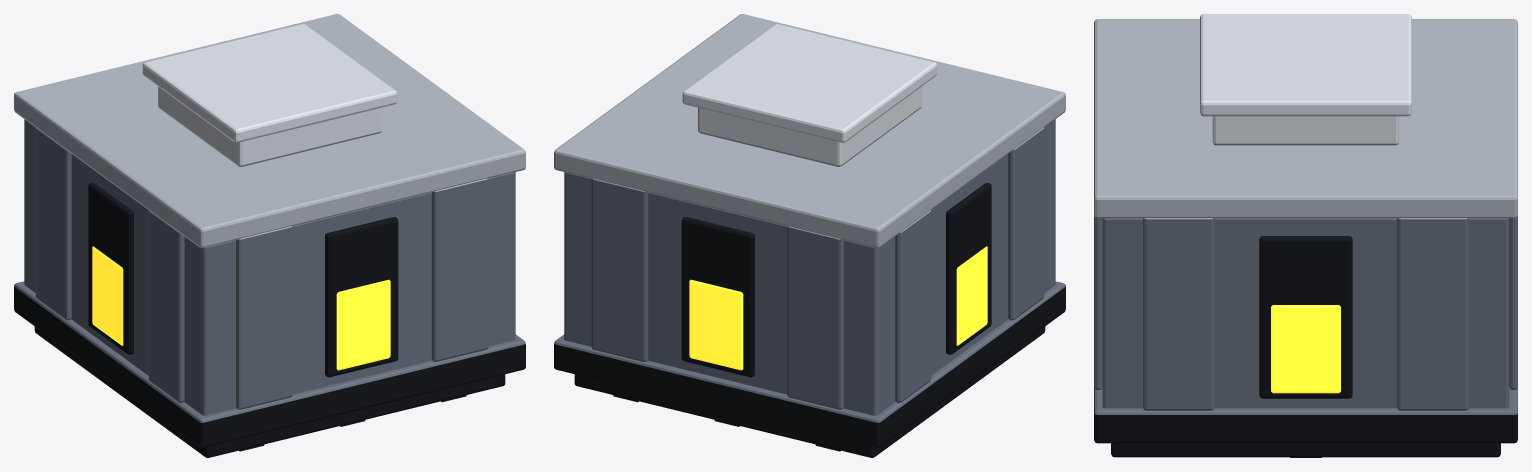
File: storage.glb
3 renders of one model, left to right at view 1: azimuth 30°, elevation 25°; view 2: azimuth 150°, elevation 25°; view 3: azimuth 270°, elevation 25°, orthographic. The views are drawn at different scales.
Visible parts, largest first — view 1: storage; view 2: storage; view 3: storage.
Part boxes in pixels (bbox=[...]): storage: bbox=[14, 14, 525, 457]; storage: bbox=[554, 14, 1065, 457]; storage: bbox=[1094, 14, 1517, 457].
Size of the model in its own units: 2 by 1.68 by 2.
